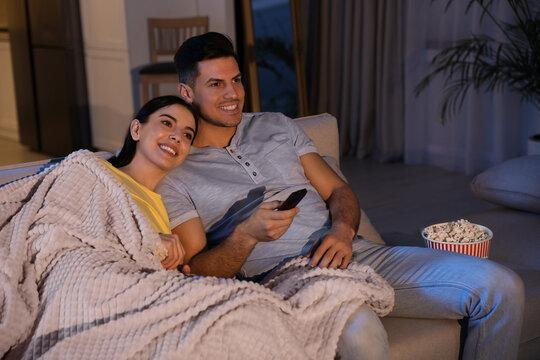blanket: (0, 147, 397, 360)
short sleeve shirt: (151, 108, 343, 281)
trousers: (270, 232, 529, 360)
